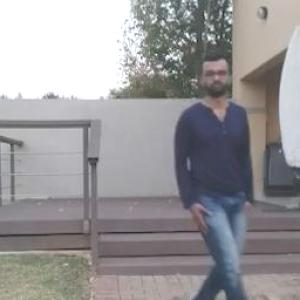follow: (158, 43, 260, 299)
